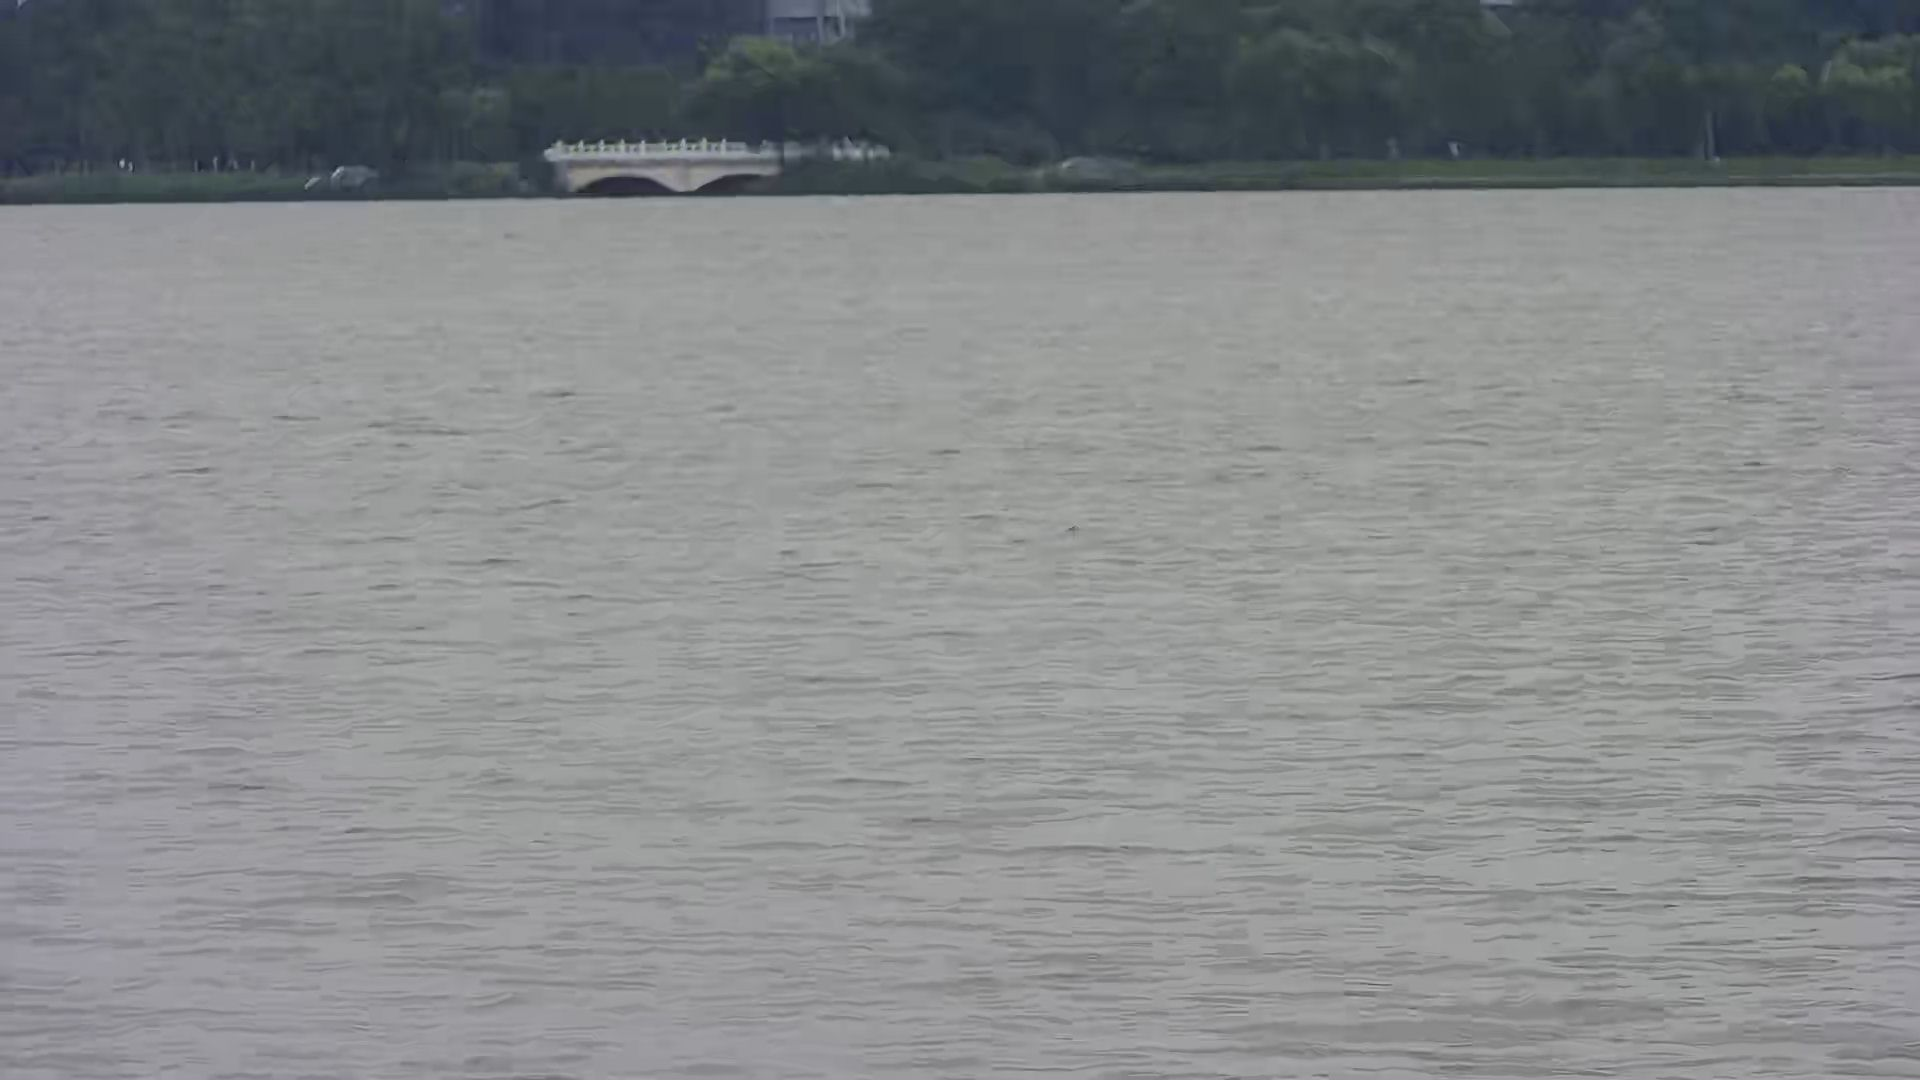bridge: (524, 135, 789, 191)
